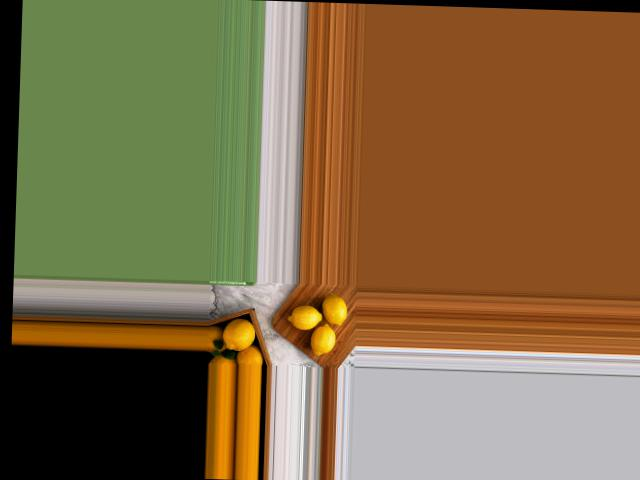lemon: (314, 288, 350, 326)
